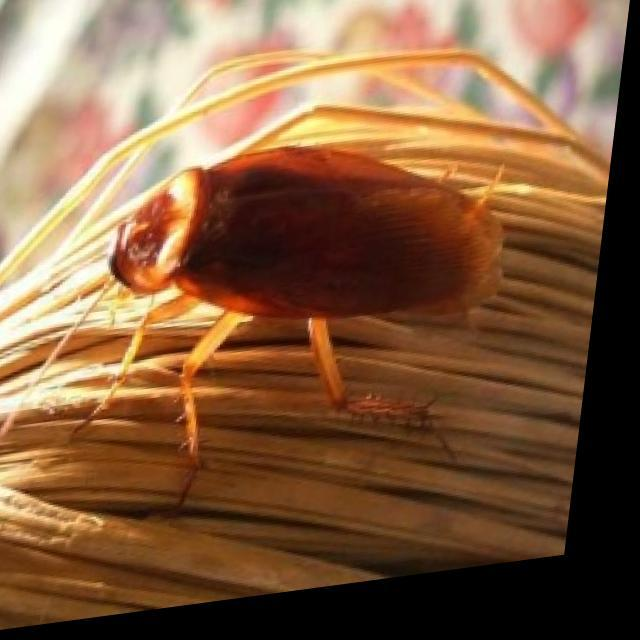cockroach: (80, 147, 538, 473)
